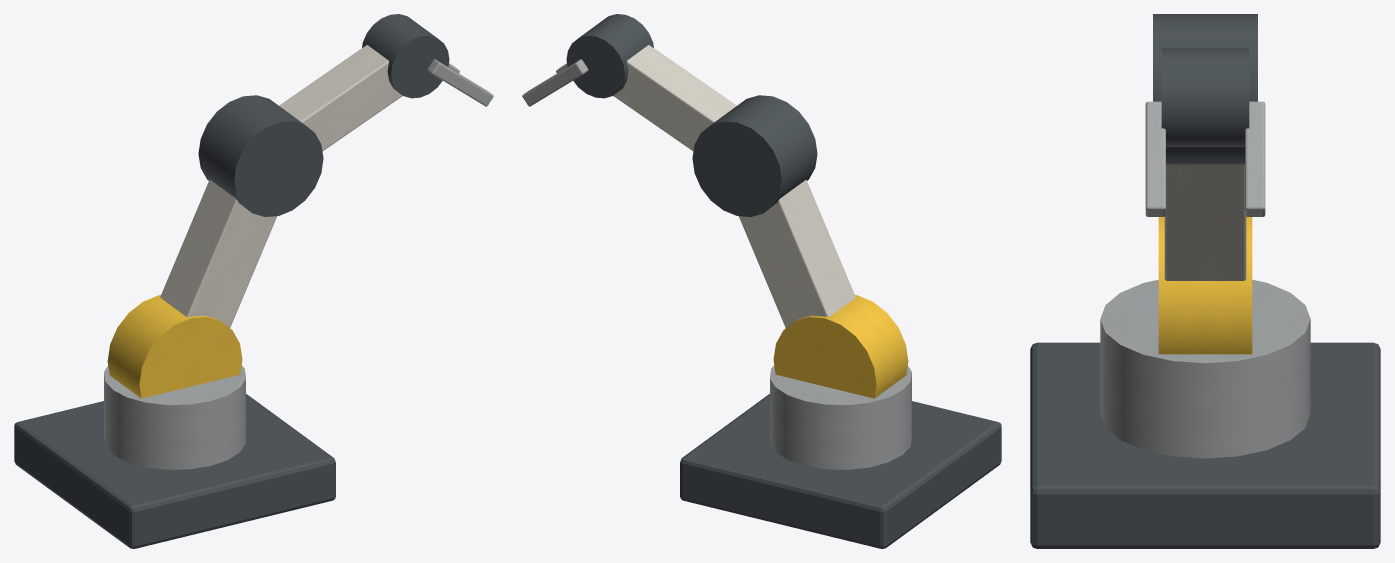
The model's file is laboratory_test_robot_arm.glb.
3 renders of one model, left to right at view 1: azimuth 30°, elevation 25°; view 2: azimuth 150°, elevation 25°; view 3: azimuth 270°, elevation 25°, orthographic. The views are drawn at different scales.
Visible parts, largest first — view 1: Foot.002, Pedestal.002, Elbow.001, BaseJoint, LowerArm.001, UpperArm.001, Wrist, GripperFinger; view 2: Foot.002, Pedestal.002, Elbow.001, BaseJoint, LowerArm.001, UpperArm.001, Wrist, GripperFinger.001; view 3: Foot.002, Pedestal.002, LowerArm.001, Wrist, BaseJoint, Elbow.001, GripperFinger, GripperFinger.001.
Part boxes in pixels (x1,y1,x2,y2): Foot.002: [14, 394, 335, 548]; Pedestal.002: [104, 365, 245, 469]; Elbow.001: [198, 95, 323, 216]; BaseJoint: [107, 295, 242, 398]; LowerArm.001: [160, 180, 276, 327]; UpperArm.001: [279, 45, 402, 151]; Wrist: [362, 14, 449, 98]; GripperFinger: [427, 59, 493, 106]; Foot.002: [680, 394, 1001, 548]; Pedestal.002: [770, 365, 911, 469]; Elbow.001: [692, 95, 817, 216]; BaseJoint: [773, 295, 908, 398]; LowerArm.001: [739, 180, 855, 327]; UpperArm.001: [613, 45, 736, 151]; Wrist: [566, 14, 653, 98]; GripperFinger.001: [522, 59, 588, 106]; Foot.002: [1030, 342, 1380, 548]; Pedestal.002: [1100, 279, 1310, 458]; LowerArm.001: [1164, 164, 1246, 280]; Wrist: [1161, 48, 1249, 146]; BaseJoint: [1158, 217, 1252, 354]; Elbow.001: [1153, 14, 1257, 164]; GripperFinger: [1145, 101, 1165, 216]; GripperFinger.001: [1245, 101, 1265, 216].
Bounding box in the file's own units: 1.17 × 1.11 × 0.6.
Materials: 4 (3 with a texture image).
